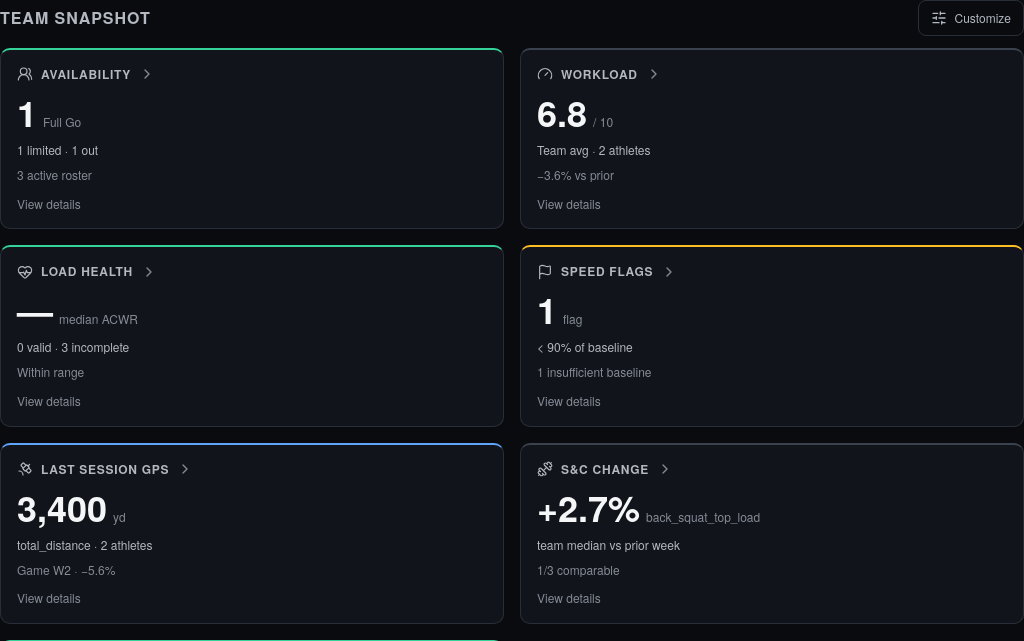
Test: Load Health and Speed Flags drawers keep observation language and transparent rules
The image size is (1024, 641).
Expected: the heading "Team Snapshot" is shown, [0,7,151,29]
Click the button "Load Health" at (87, 271), box [0,245,504,427]
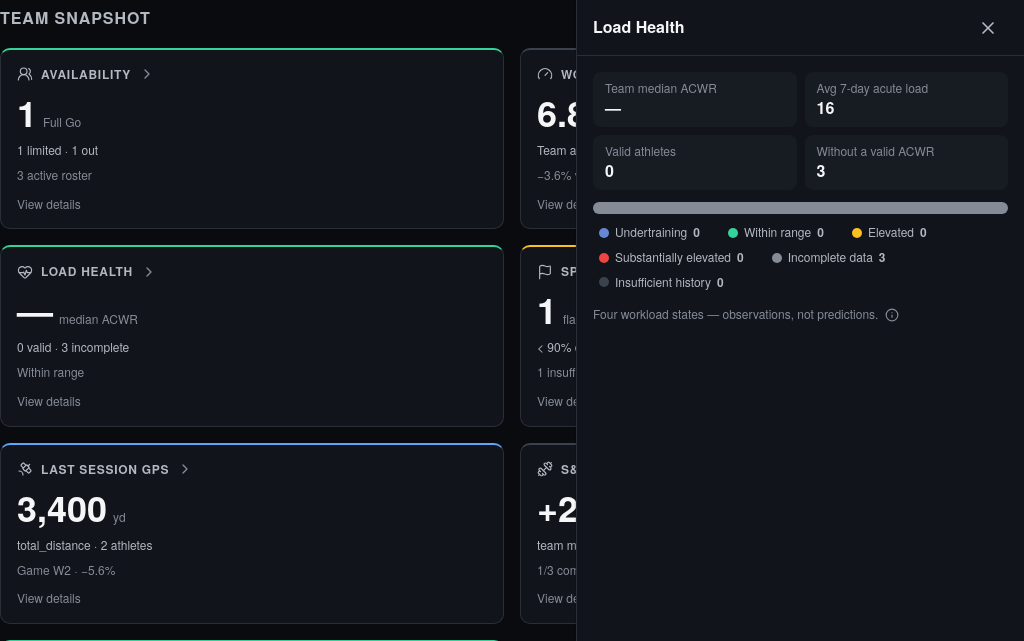
Expected: the text "Four workload states — observations, not predictions." is shown, [593,305,902,325]
Press Escape
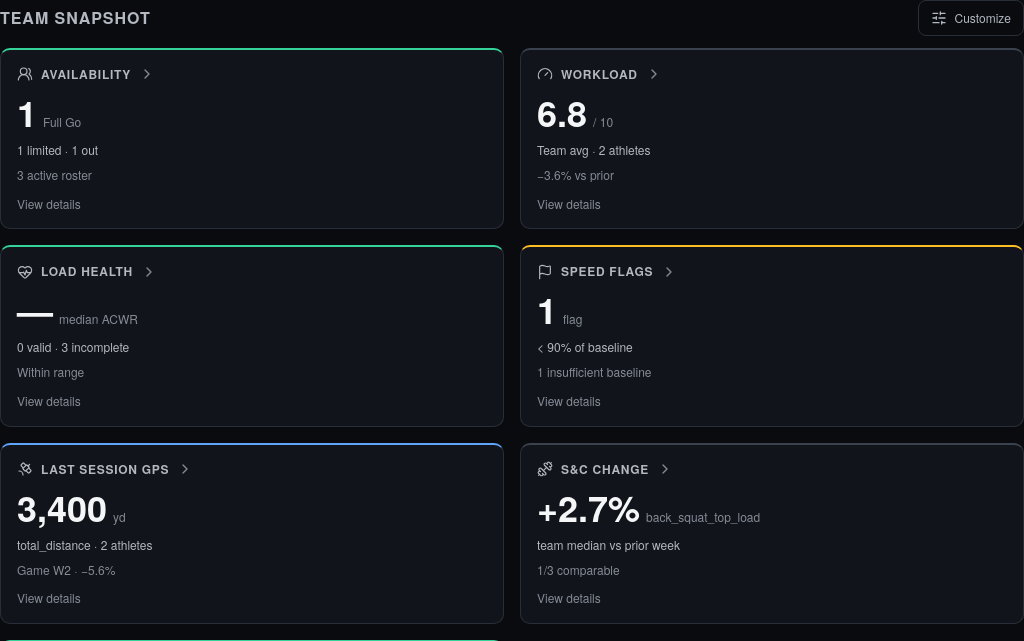
Click the button "Speed Flags" at (607, 271), box [520,245,1023,427]
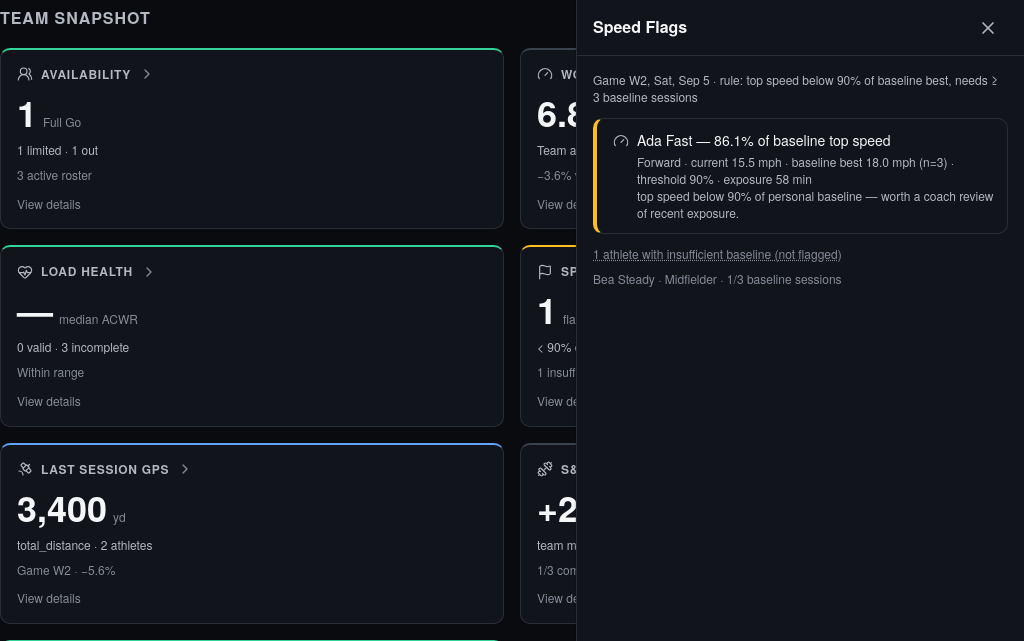
Expected: the text "Ada Fast — 86.1% of baseline top speed" is shown, [637,130,891,150]
Expected: the text "exposure 58 min" is shown, [637,154,995,188]
